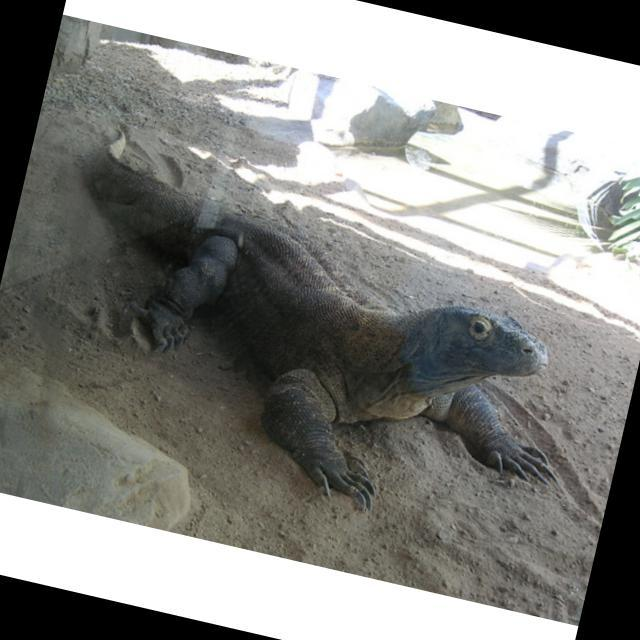KomodoDragon: (29, 115, 620, 553)
